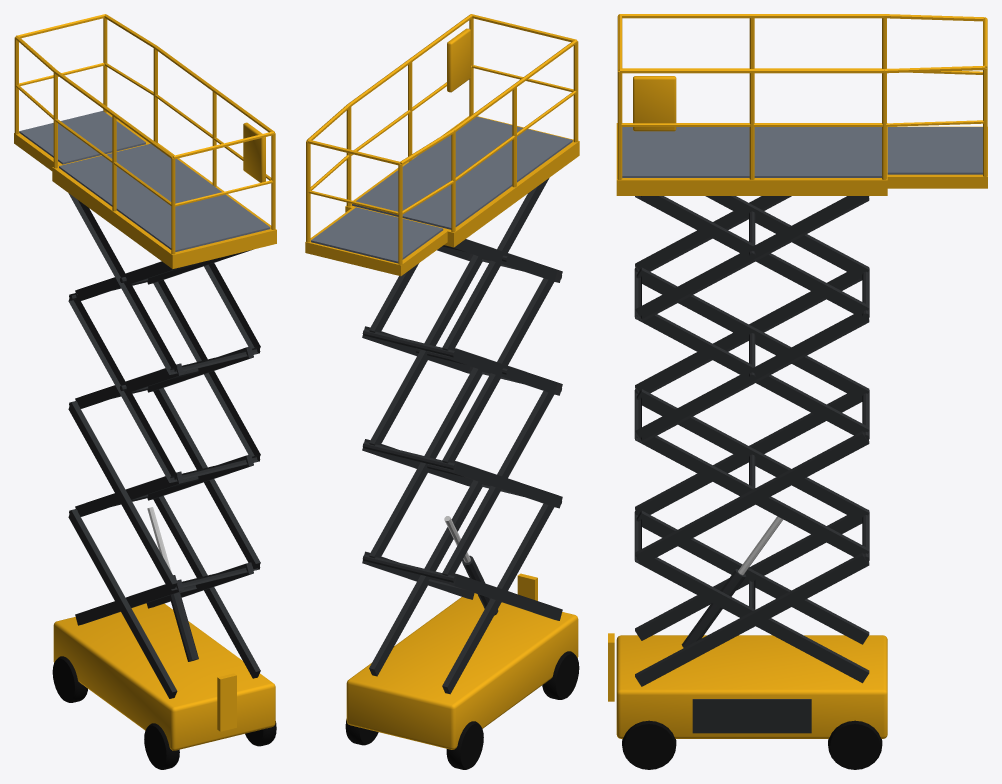
File: plant.access.scissor_lift_6.glb
The picture shows the model from 3 angles, left to right: view 1: azimuth 30°, elevation 25°; view 2: azimuth 150°, elevation 25°; view 3: azimuth 270°, elevation 25°; orthographic projection. The views are drawn at different scales.
Parts seen in each view (by area): view 1: scissors__steel_dark, base__plant_yellow, platform__plant_yellow, platform__steel_painted, base__rubber; view 2: scissors__steel_dark, base__plant_yellow, platform__plant_yellow, platform__steel_painted, base__rubber; view 3: scissors__steel_dark, base__plant_yellow, platform__plant_yellow, platform__steel_painted, base__rubber, base__steel_dark.
Part boxes in pixels (x1,y1,x2,y2): scissors__steel_dark: (68, 193, 260, 698); base__plant_yellow: (53, 603, 275, 750); platform__plant_yellow: (14, 14, 276, 268); platform__steel_painted: (19, 111, 270, 251); base__rubber: (52, 656, 276, 769); scissors__steel_dark: (362, 178, 562, 694); base__plant_yellow: (346, 573, 578, 749); platform__plant_yellow: (305, 14, 579, 276); platform__steel_painted: (311, 116, 572, 263); base__rubber: (345, 651, 579, 769); scissors__steel_dark: (634, 196, 869, 686); base__plant_yellow: (608, 633, 887, 738); platform__plant_yellow: (616, 14, 987, 195); platform__steel_painted: (622, 127, 982, 177); base__rubber: (622, 720, 882, 769); base__steel_dark: (692, 699, 811, 733).
Size of the model in its own units: 1.32 by 7.12 by 3.5.
